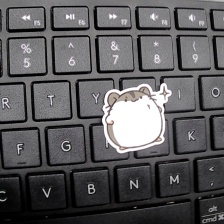mouse: (101, 80, 173, 154)
